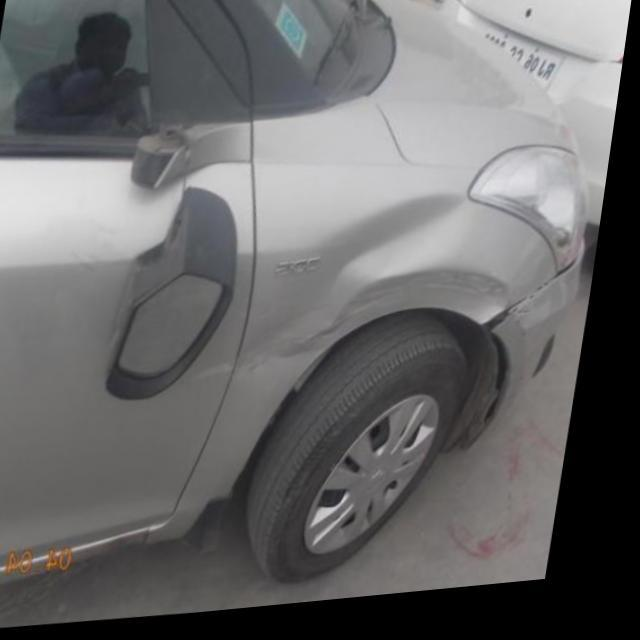dent: (247, 196, 518, 380)
dislocated part: (117, 126, 246, 403), (492, 271, 593, 348)
